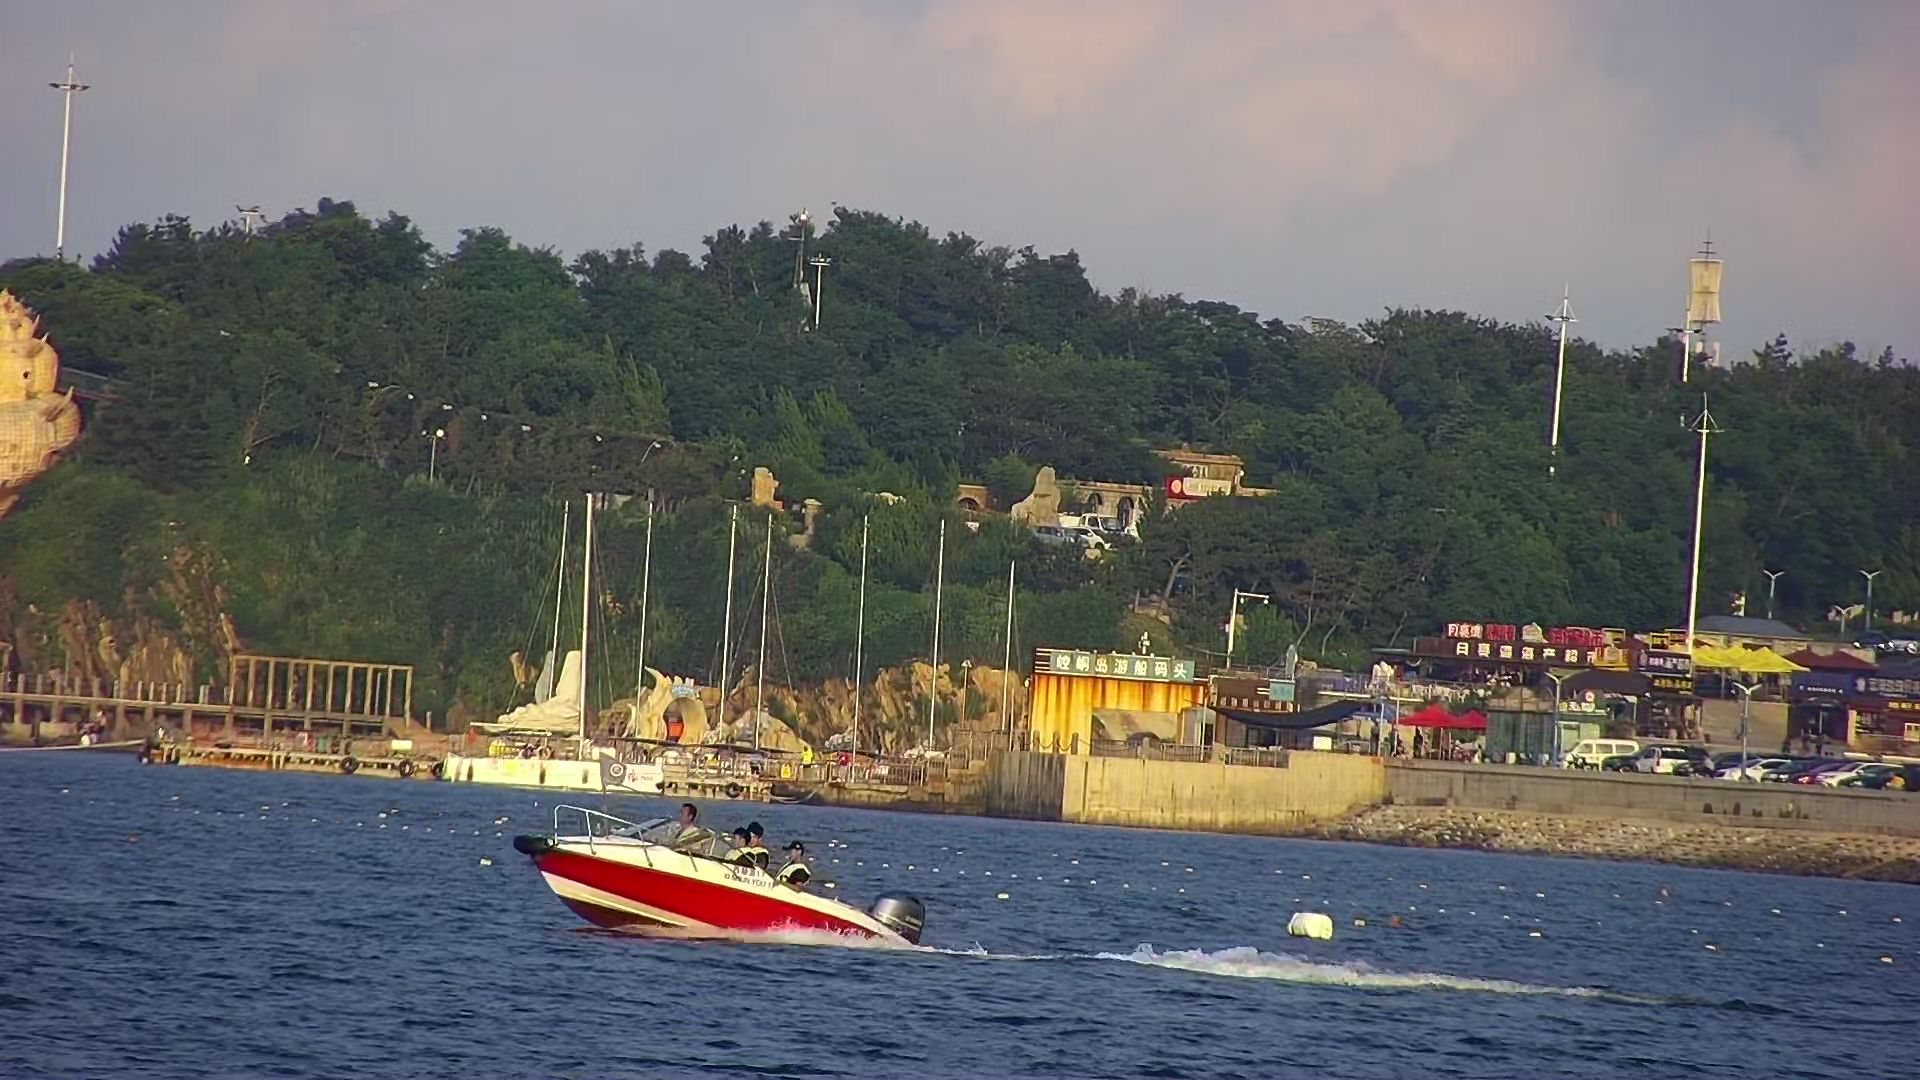boat: (512, 764, 936, 965)
rubbish: (1287, 899, 1336, 948)
